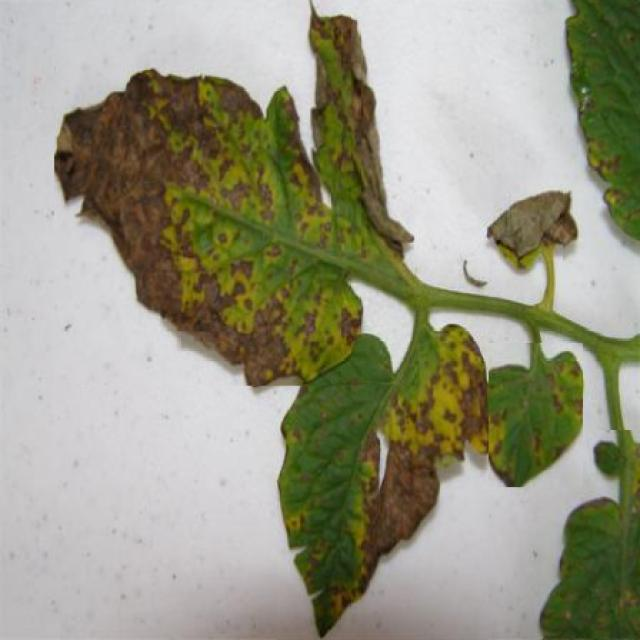Septoria: (55, 0, 414, 386), (277, 310, 489, 640), (534, 431, 640, 639), (563, 0, 640, 274), (478, 343, 582, 487)
